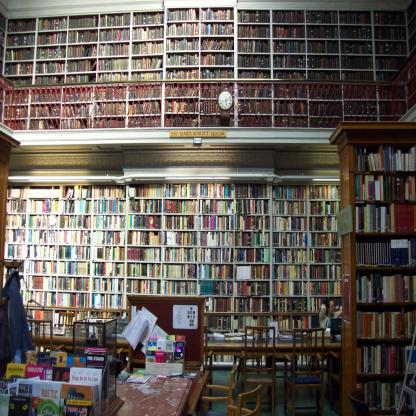book: (0, 5, 415, 127), (127, 183, 272, 362), (3, 187, 125, 336), (355, 145, 416, 412), (273, 184, 341, 362), (0, 349, 108, 416), (132, 336, 196, 378), (390, 236, 408, 266), (115, 371, 129, 383)
